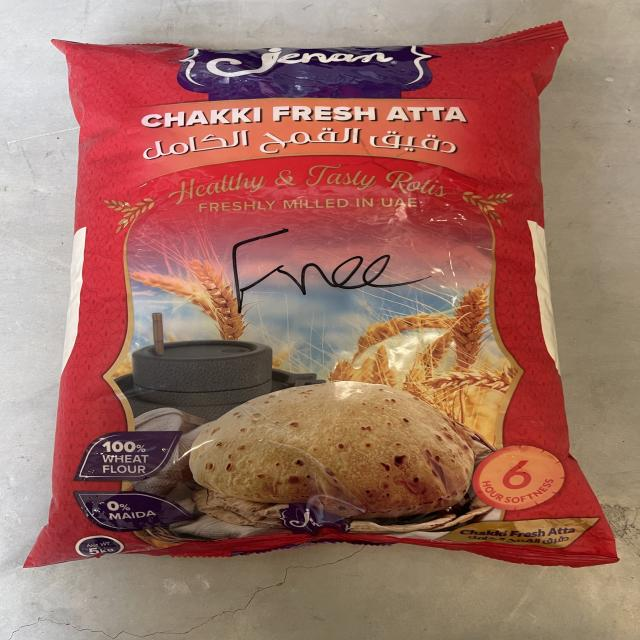object_name: (54, 41, 587, 567)
